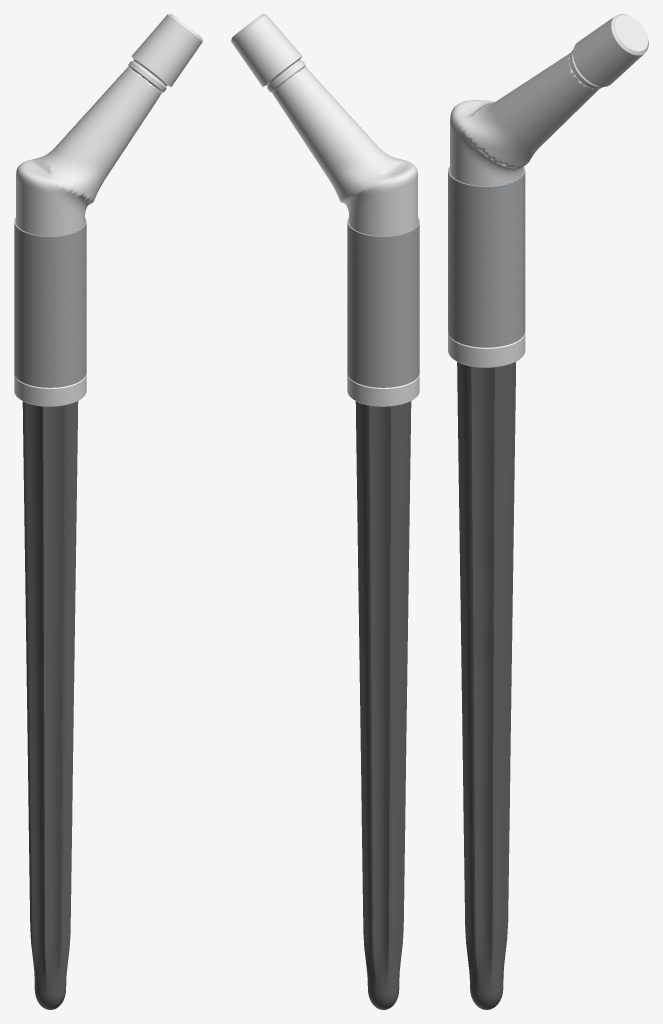
The model's file is revistem-stem.lod1.glb.
The picture shows the model from 3 angles, left to right: view 1: azimuth 30°, elevation 25°; view 2: azimuth 150°, elevation 25°; view 3: azimuth 330°, elevation 25°; orthographic projection. The views are drawn at different scales.
Parts seen in each view (by area): view 1: revistem; view 2: revistem; view 3: revistem.
Part boxes in pixels (left/top/right/bottom): revistem: left=14, top=14, right=202, bottom=1009; revistem: left=231, top=14, right=419, bottom=1009; revistem: left=448, top=14, right=648, bottom=1009.
Size of the model in its own units: 0.0573 by 0.2934 by 0.0206.
Materials: 3 (2 with a texture image).
